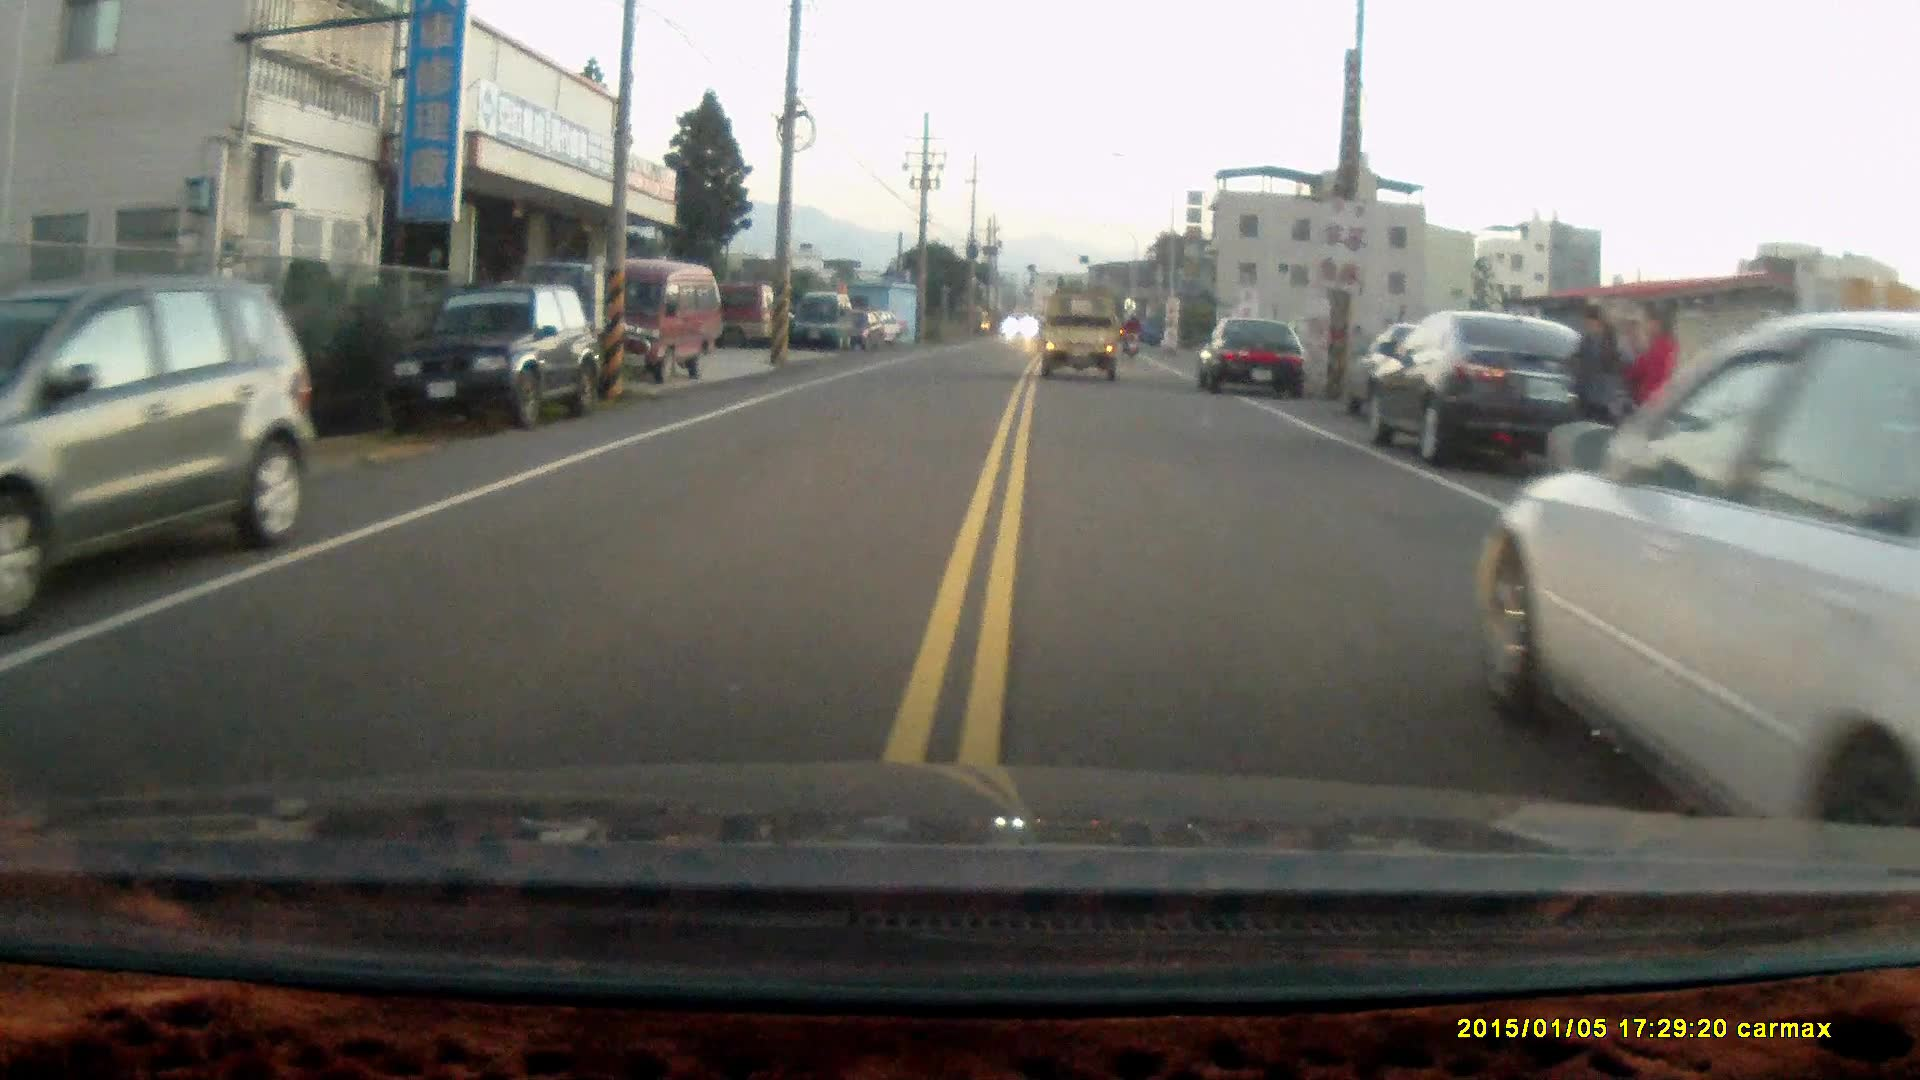pedestrian: (1555, 302, 1625, 496), (1616, 308, 1685, 498)
vehicle: (1484, 307, 1920, 839), (1, 271, 322, 632), (1362, 311, 1629, 473), (390, 279, 591, 430), (564, 256, 730, 383), (1199, 317, 1310, 397), (1035, 288, 1121, 377), (788, 291, 854, 349)
